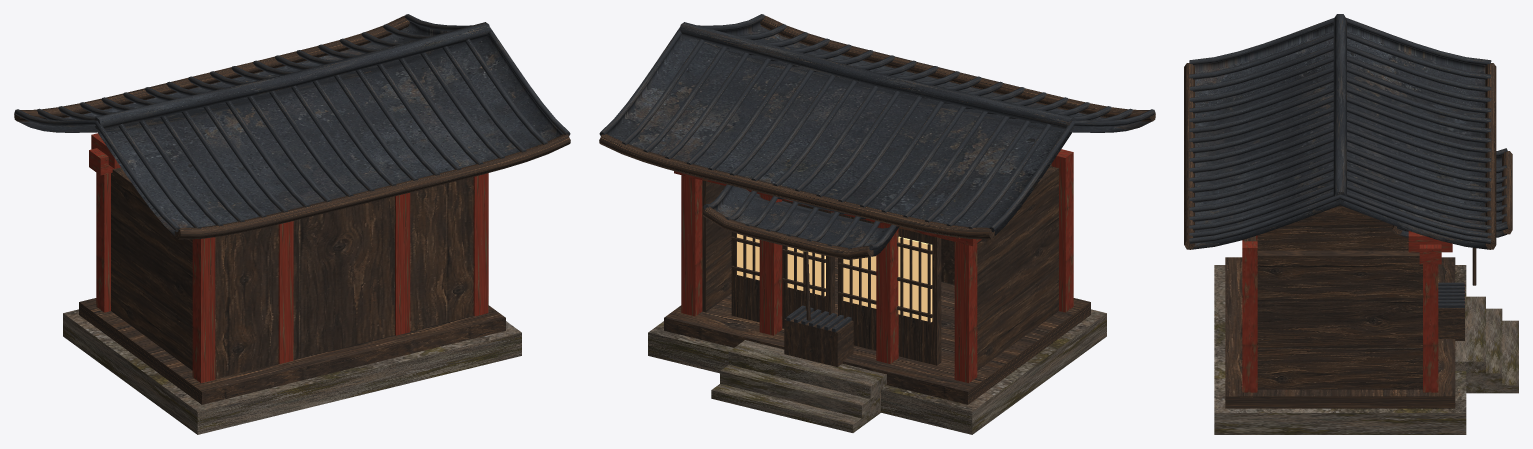
File: sakura-shrine.glb
3 renders of one model, left to right at view 1: azimuth 30°, elevation 25°; view 2: azimuth 150°, elevation 25°; view 3: azimuth 270°, elevation 25°, orthographic. The views are drawn at different scales.
Visible parts, largest first — view 1: sakura-shrine-sakura-tile, sakura-shrine-sakura-wood, sakura-shrine-sakura-stone, sakura-shrine-sakura-red; view 2: sakura-shrine-sakura-tile, sakura-shrine-sakura-wood, sakura-shrine-sakura-stone, sakura-shrine-sakura-red, sakura-shrine-sakura-paper; view 3: sakura-shrine-sakura-tile, sakura-shrine-sakura-wood, sakura-shrine-sakura-stone, sakura-shrine-sakura-red.
Boxes of the visible parts, x1,y1,x2,y2 form: sakura-shrine-sakura-tile: [14, 14, 570, 235]; sakura-shrine-sakura-wood: [14, 15, 570, 404]; sakura-shrine-sakura-stone: [63, 309, 521, 434]; sakura-shrine-sakura-red: [89, 133, 488, 383]; sakura-shrine-sakura-tile: [599, 14, 1155, 332]; sakura-shrine-sakura-wood: [599, 15, 1155, 404]; sakura-shrine-sakura-stone: [648, 309, 1106, 434]; sakura-shrine-sakura-red: [674, 149, 1073, 383]; sakura-shrine-sakura-paper: [737, 233, 932, 322]; sakura-shrine-sakura-tile: [1189, 14, 1507, 307]; sakura-shrine-sakura-wood: [1184, 63, 1512, 408]; sakura-shrine-sakura-stone: [1214, 265, 1518, 434]; sakura-shrine-sakura-red: [1242, 231, 1452, 392].
Size of the model in its own units: 7.8 by 5.19 by 6.11.
6 materials, 4 textured.
